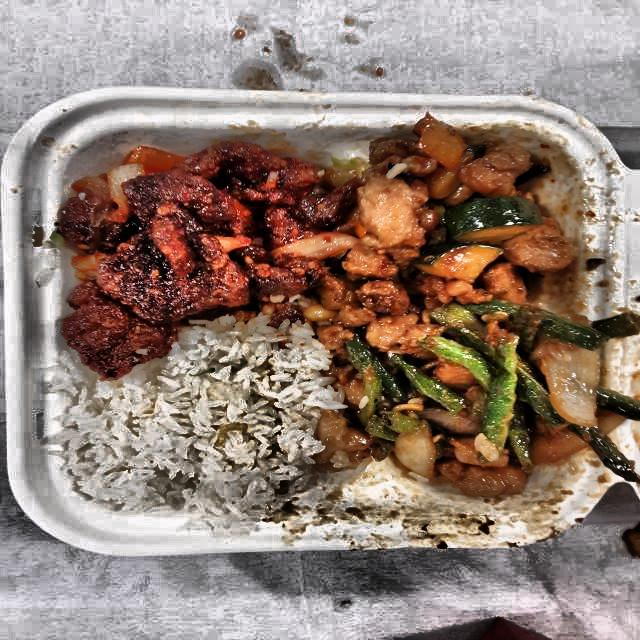Food: (52, 128, 331, 376), (320, 114, 586, 330), (338, 304, 632, 490), (67, 347, 329, 527)
